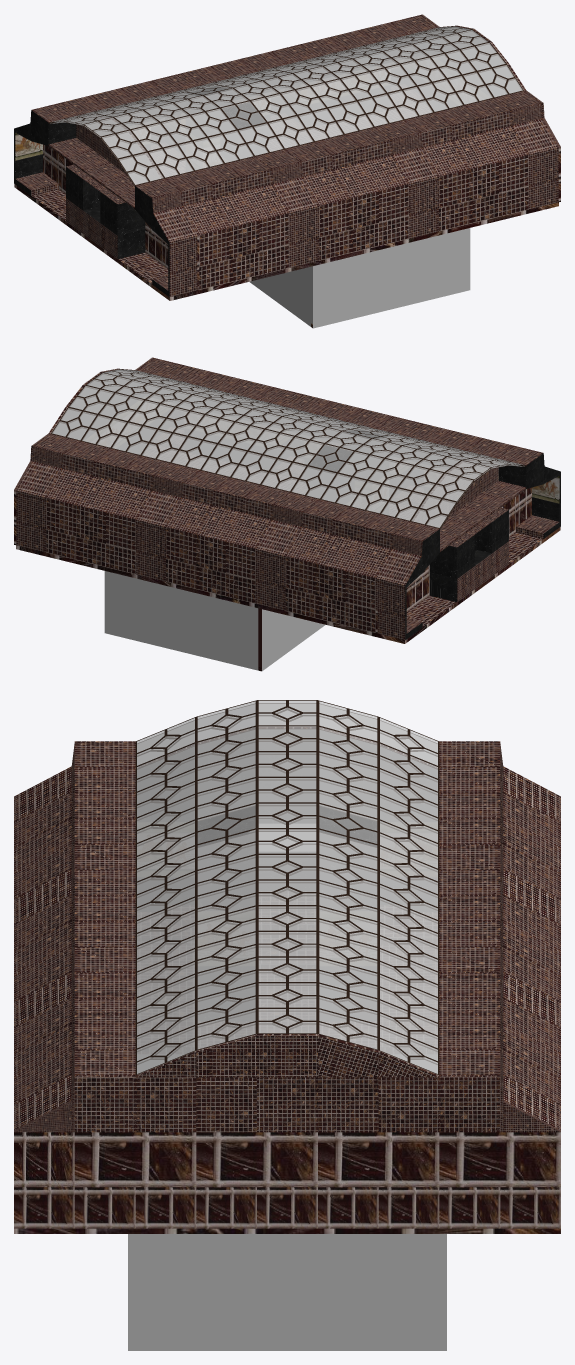
Rendered from SwimmingPoolRoom.fbx.
3 views of the same model, one above another, from view 1: azimuth 30°, elevation 25°; view 2: azimuth 150°, elevation 25°; view 3: azimuth 270°, elevation 25° (orthographic). The views are drawn at different scales.
Parts seen in each view (by area): view 1: SwimmingPoolRoomCeiling, SwimmingPool, SwimmingPoolRoomWallLeft, SwimmingPoolRoomWallLeft.001, SwimmingPoolRoomWallLeft.003, SwimmingPoolRoomWallEntrance, SwimmingPoolRoomWallLeftBt.003, SwimmingPoolRoomFloor, SwimmingPoolRoomWallLeftBt, SwimmingPoolRoomWallLeftBt.002, SwimmingPoolRoomWallLeftBt.001, SwimmingPoolRoomWallRightBt.003 (+12 smaller); view 2: SwimmingPoolRoomCeiling, SwimmingPool, SwimmingPoolRoomWallRight, SwimmingPoolRoomWallRight.002, SwimmingPoolRoomWallRight.003, SwimmingPoolRoomWallEntrance, SwimmingPoolRoomWallRightBt.003, SwimmingPoolRoomFloor, SwimmingPoolRoomWallRightBt, SwimmingPoolRoomWallRightBt.002, SwimmingPoolRoomWallRightBt.001, SwimmingPoolRoomWallLeftBt.003 (+12 smaller); view 3: SwimmingPoolRoomCeiling, SwimmingPool, SwimmingPoolRoomWallCeilingFront.001, SwimmingPoolRoomWallB1Back, SwimmingPoolRoomWallB0Back, SwimmingPoolRoomWallLeft.003, SwimmingPoolRoomWallLeft, SwimmingPoolRoomWallRight.003, SwimmingPoolRoomWallRight, SwimmingPoolRoomWallLeft.001, SwimmingPoolRoomWallRight.002, SwimmingPoolRoomWallB1Back.005 (+13 smaller).
Part boxes in pixels (x1=…): SwimmingPoolRoomCeiling: x1=48, y1=26, x2=523, y2=186; SwimmingPool: x1=249, y1=228, x2=470, y2=328; SwimmingPoolRoomWallLeft: x1=165, y1=156, x2=289, y2=289; SwimmingPoolRoomWallLeft.001: x1=285, y1=127, x2=408, y2=260; SwimmingPoolRoomWallLeft.003: x1=405, y1=98, x2=528, y2=231; SwimmingPoolRoomWallEntrance: x1=66, y1=164, x2=145, y2=259; SwimmingPoolRoomWallLeftBt.003: x1=135, y1=178, x2=199, y2=297; SwimmingPoolRoomFloor: x1=14, y1=184, x2=558, y2=300; SwimmingPoolRoomWallLeftBt: x1=255, y1=149, x2=319, y2=267; SwimmingPoolRoomWallLeftBt.002: x1=494, y1=91, x2=558, y2=209; SwimmingPoolRoomWallLeftBt.001: x1=375, y1=120, x2=438, y2=238; SwimmingPoolRoomWallRightBt.003: x1=14, y1=102, x2=77, y2=195; SwimmingPoolRoomCeiling: x1=51, y1=369, x2=526, y2=529; SwimmingPool: x1=104, y1=571, x2=325, y2=671; SwimmingPoolRoomWallRight: x1=285, y1=499, x2=409, y2=632; SwimmingPoolRoomWallRight.002: x1=166, y1=470, x2=289, y2=603; SwimmingPoolRoomWallRight.003: x1=46, y1=441, x2=169, y2=574; SwimmingPoolRoomWallEntrance: x1=429, y1=507, x2=508, y2=602; SwimmingPoolRoomWallRightBt.003: x1=375, y1=521, x2=439, y2=640; SwimmingPoolRoomFloor: x1=16, y1=527, x2=560, y2=643; SwimmingPoolRoomWallRightBt: x1=255, y1=492, x2=319, y2=610; SwimmingPoolRoomWallRightBt.002: x1=16, y1=434, x2=80, y2=552; SwimmingPoolRoomWallRightBt.001: x1=136, y1=463, x2=199, y2=581; SwimmingPoolRoomWallLeftBt.003: x1=496, y1=445, x2=560, y2=538; SwimmingPoolRoomCeiling: x1=135, y1=700, x2=439, y2=1074; SwimmingPool: x1=128, y1=1234, x2=446, y2=1350; SwimmingPoolRoomWallCeilingFront.001: x1=74, y1=1034, x2=500, y2=1132; SwimmingPoolRoomWallB1Back: x1=74, y1=1132, x2=560, y2=1187; SwimmingPoolRoomWallB0Back: x1=14, y1=1187, x2=560, y2=1228; SwimmingPoolRoomWallLeft.003: x1=14, y1=972, x2=135, y2=1104; SwimmingPoolRoomWallLeft: x1=14, y1=767, x2=135, y2=898; SwimmingPoolRoomWallRight.003: x1=439, y1=972, x2=560, y2=1104; SwimmingPoolRoomWallRight: x1=439, y1=767, x2=560, y2=898; SwimmingPoolRoomWallLeft.001: x1=14, y1=870, x2=135, y2=1001; SwimmingPoolRoomWallRight.002: x1=439, y1=870, x2=560, y2=1001; SwimmingPoolRoomWallB1Back.005: x1=14, y1=1132, x2=74, y2=1187.
Bounding box in the file's own units: 2615 × 1325 × 1800.
